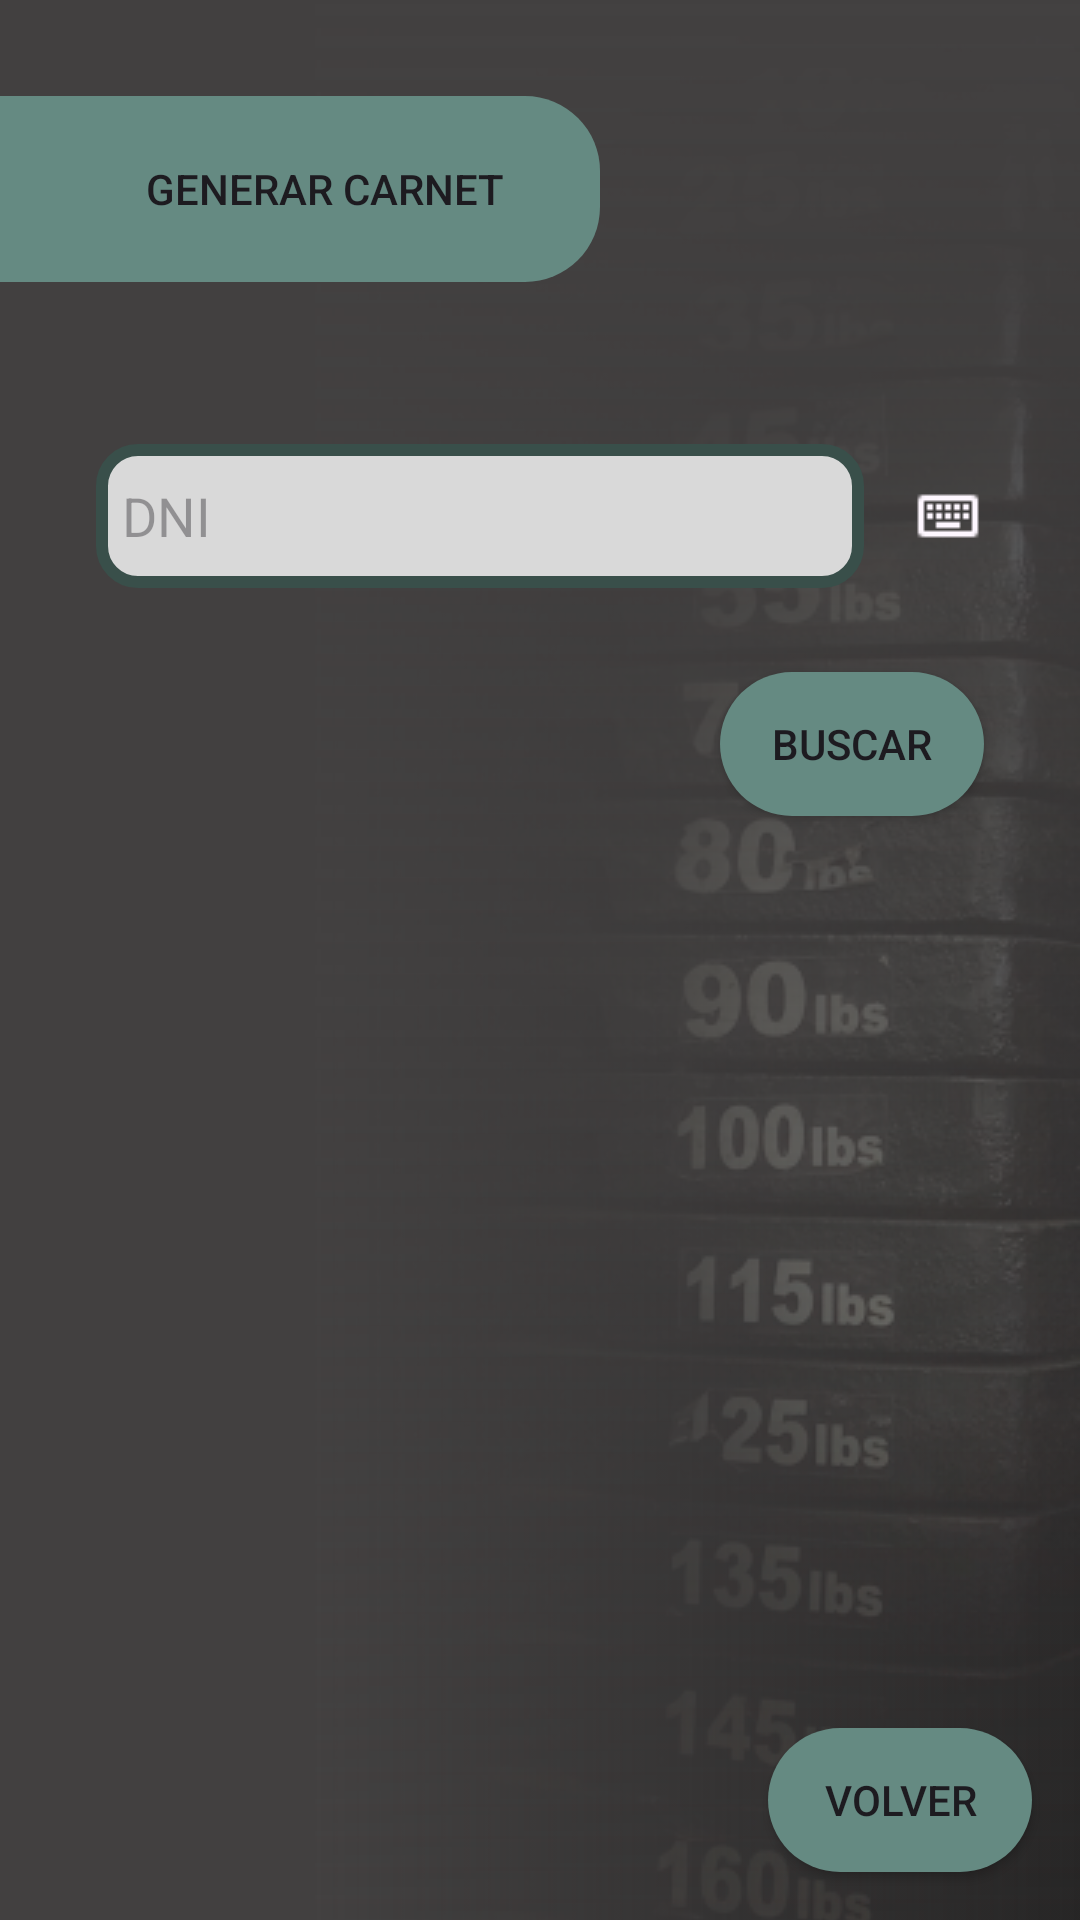

Icons on this 1080 × 1920 Android screen, each with the point to tap as point (x, y):
keyboard: point (948, 516)
